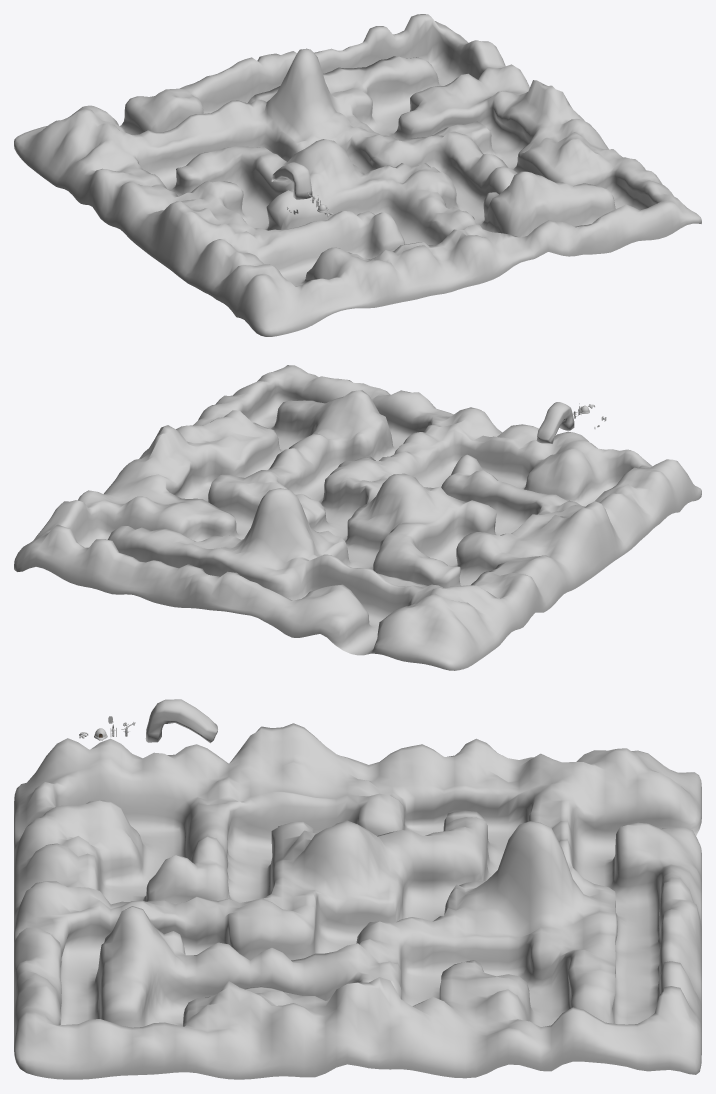
Rendered from Circuit Prova 2.fbx.
3 views of the same model, one above another, from view 1: azimuth 30°, elevation 25°; view 2: azimuth 150°, elevation 25°; view 3: azimuth 270°, elevation 25° (orthographic). The views are drawn at different scales.
Parts seen in each view (by area): view 1: Escenario nivel 1, Arco arenisca; view 2: Escenario nivel 1, Arco arenisca; view 3: Escenario nivel 1, Arco arenisca.
Part boxes in pixels (left/top/right/bottom): Escenario nivel 1: left=14, top=14, right=701, bottom=336; Arco arenisca: left=271, top=162, right=312, bottom=199; Escenario nivel 1: left=14, top=365, right=701, bottom=670; Arco arenisca: left=536, top=402, right=574, bottom=443; Escenario nivel 1: left=14, top=723, right=701, bottom=1079; Arco arenisca: left=145, top=699, right=217, bottom=743.
Size of the model in its own units: 100 by 24.78 by 100.
